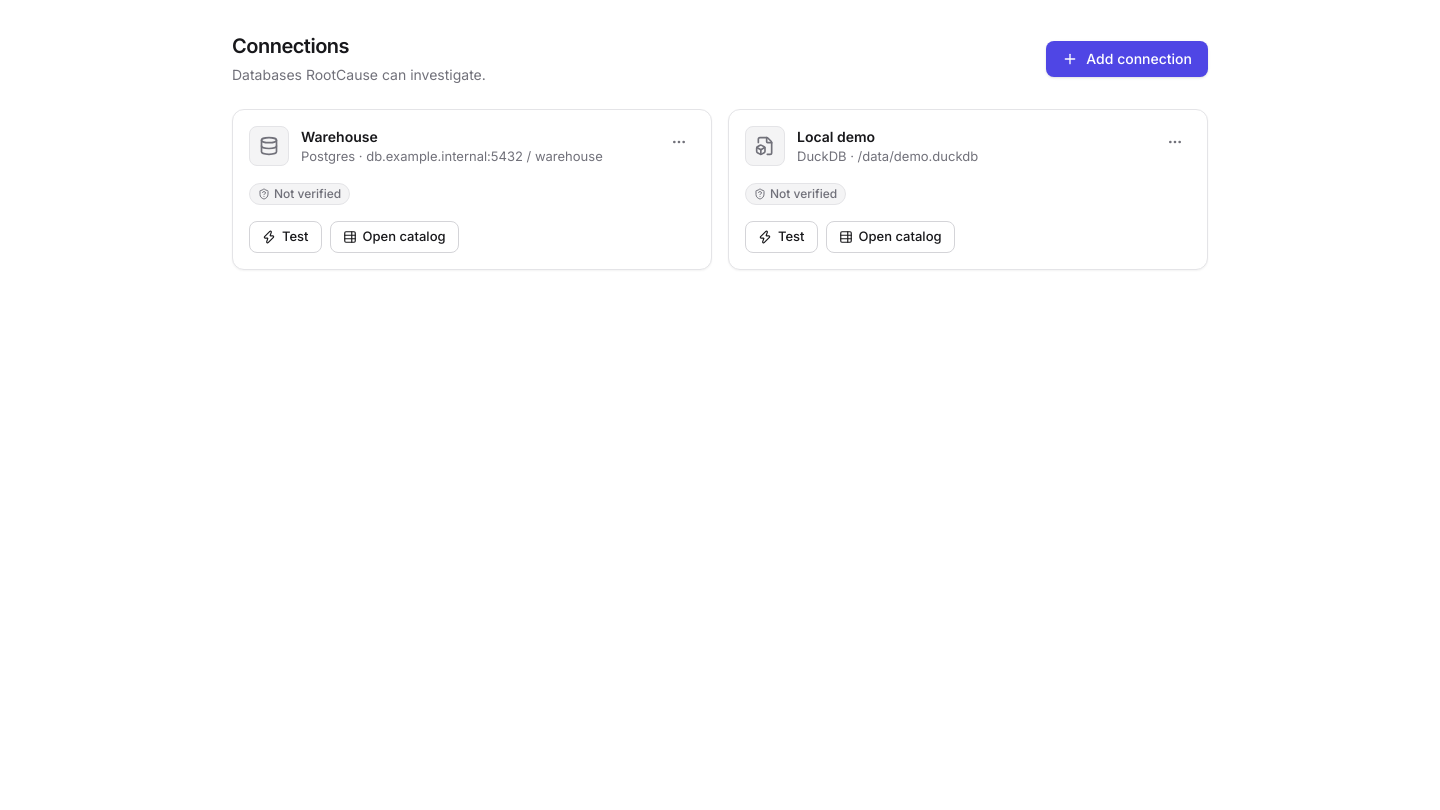
it: deleting › shows the API error when deleting fails
The width and height of the screenshot is (1440, 810).
Check: the heading "Warehouse" is shown, box x1=301 y1=128 x2=378 y2=145
Click the button named "More actions for Warehouse" at (679, 142), box x1=663 y1=126 x2=695 y2=158
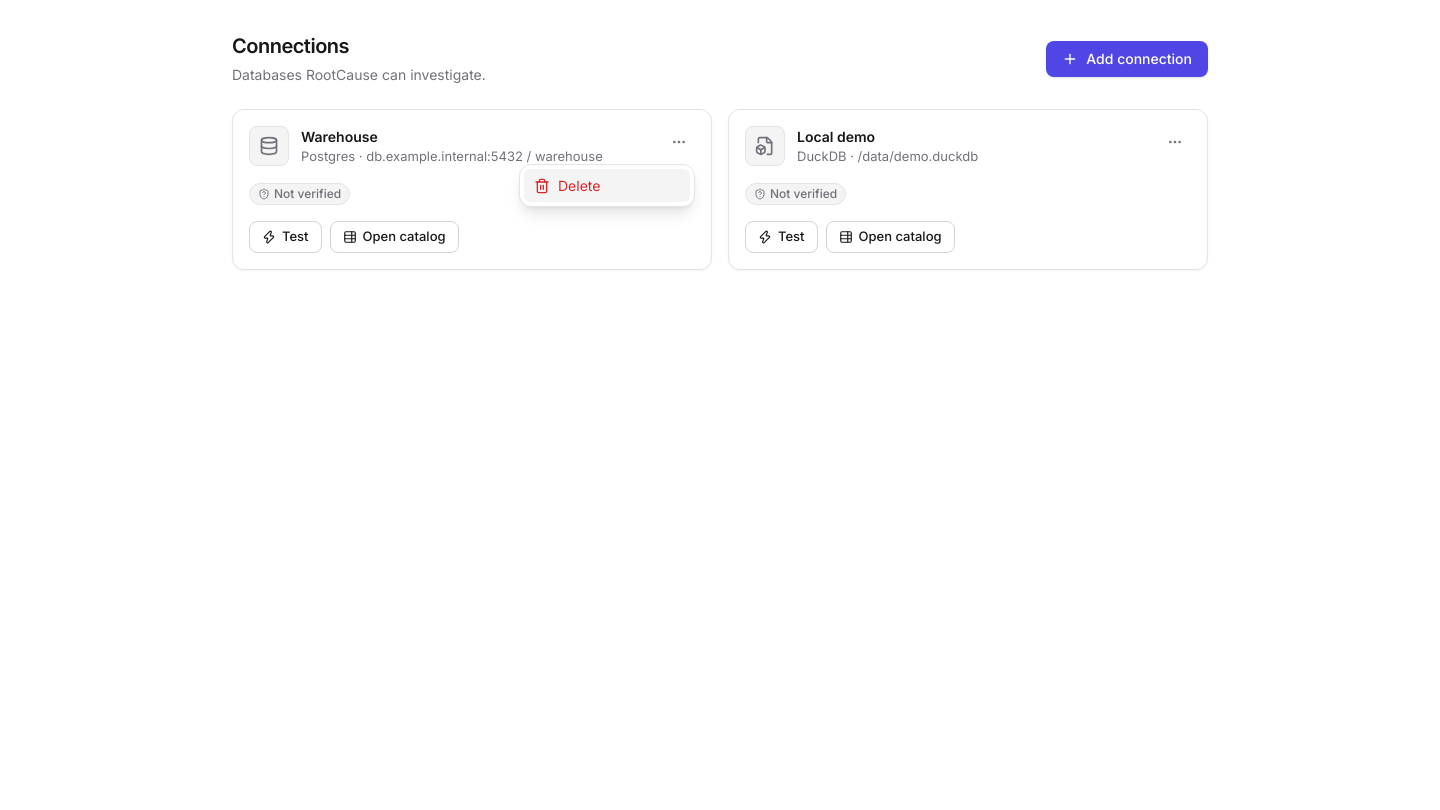
Click the menu item "Delete" at (607, 186), box x1=524 y1=169 x2=690 y2=202
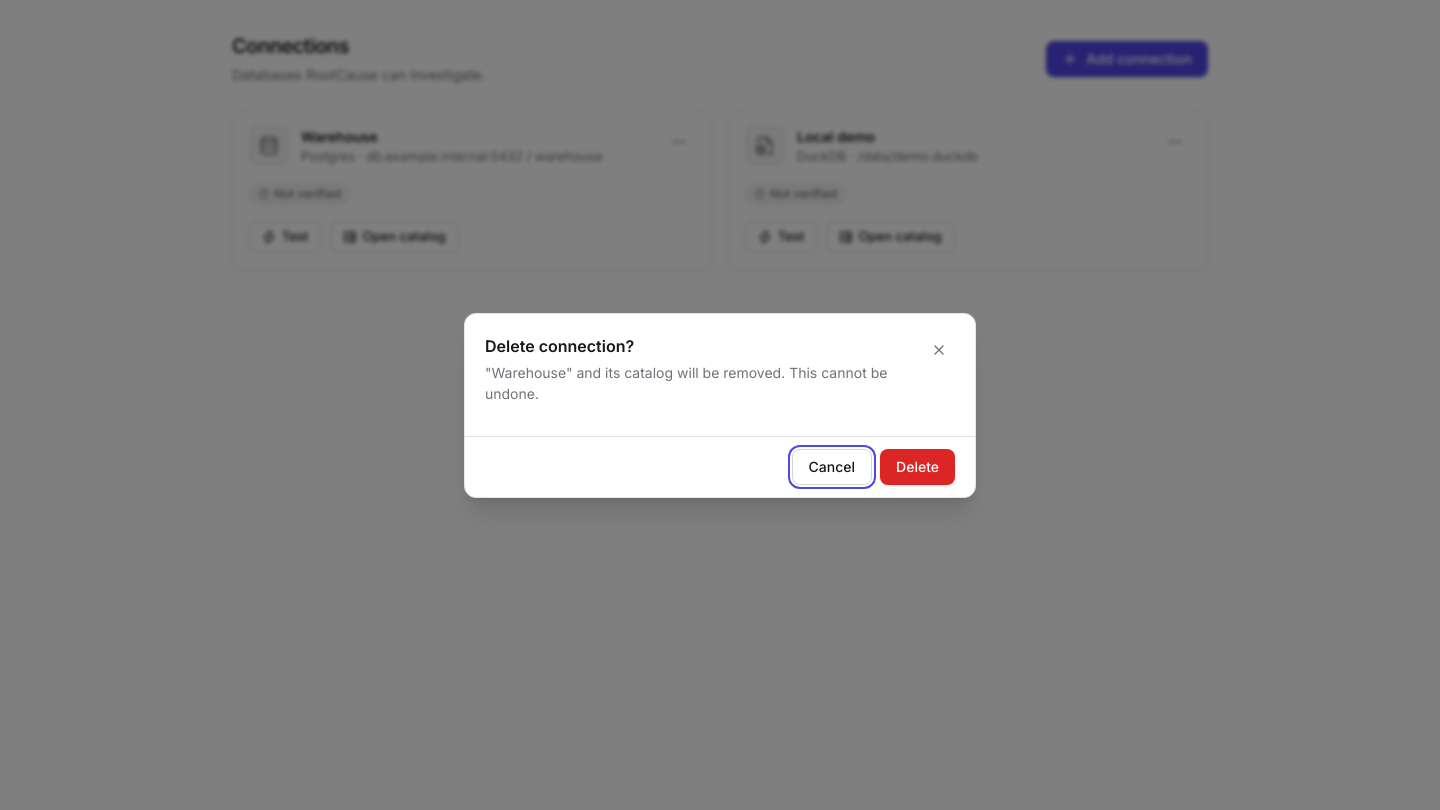
Click the button "Delete" at (918, 466), box x1=880 y1=448 x2=955 y2=484
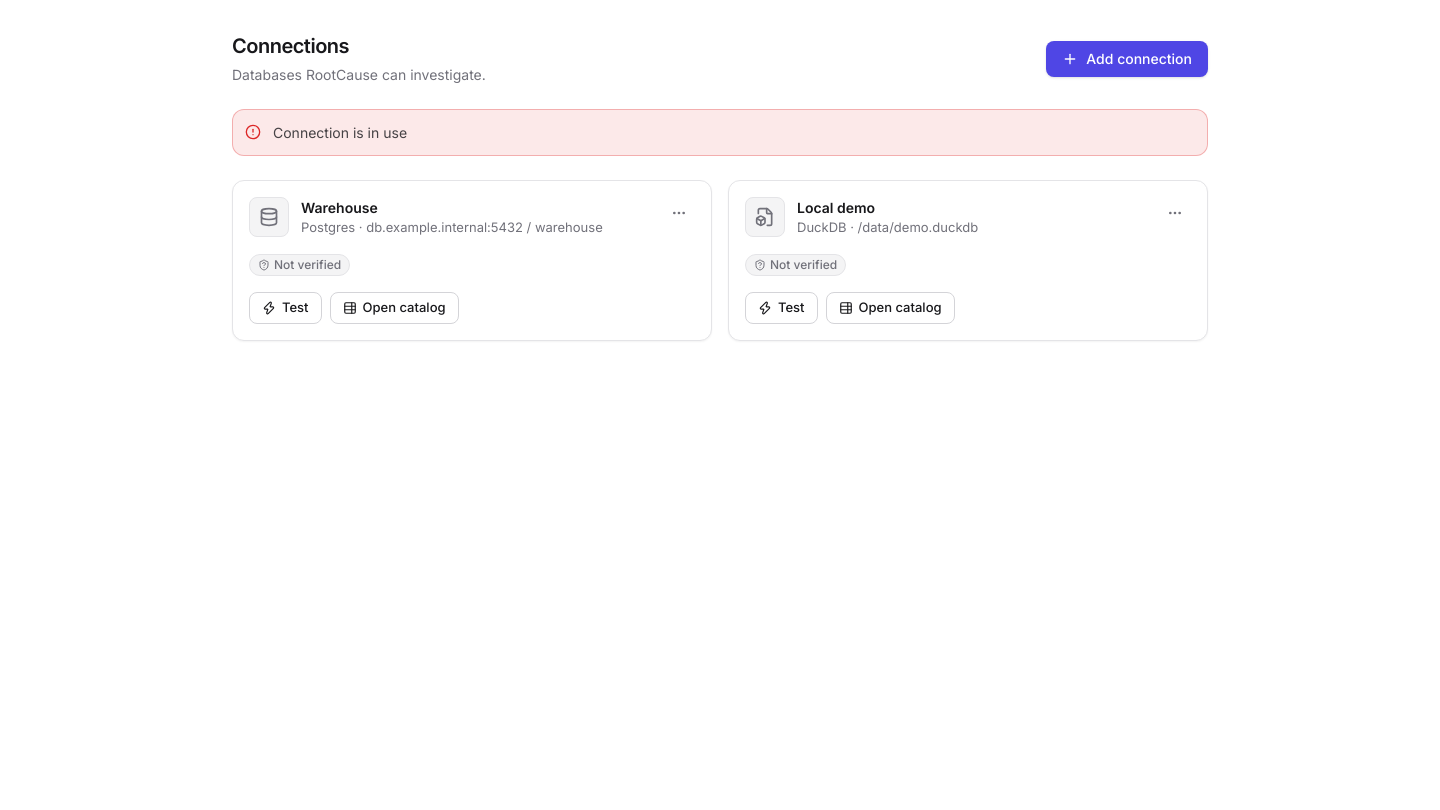
Check: the message reads "Connection is in use", box x1=273 y1=124 x2=407 y2=141
